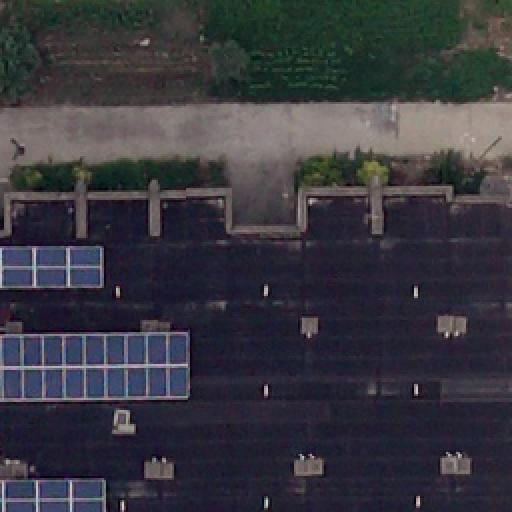solar-panel: (0, 330, 192, 398), (0, 247, 104, 289), (0, 480, 104, 512)
